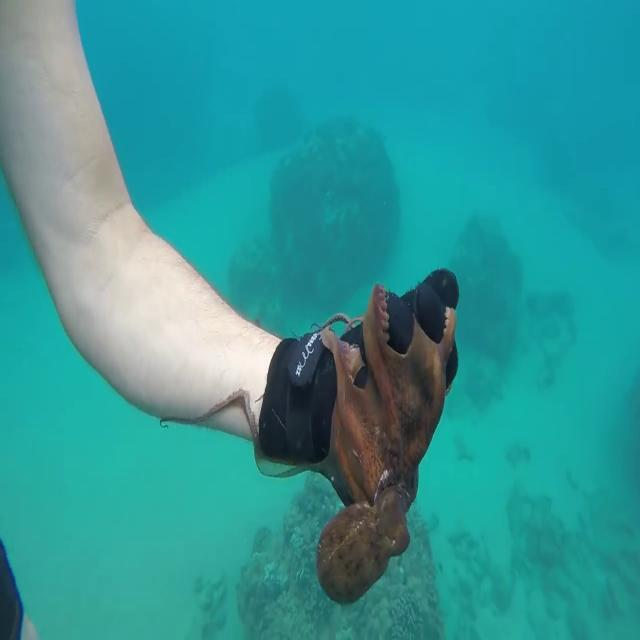octopus: (211, 280, 459, 606)
